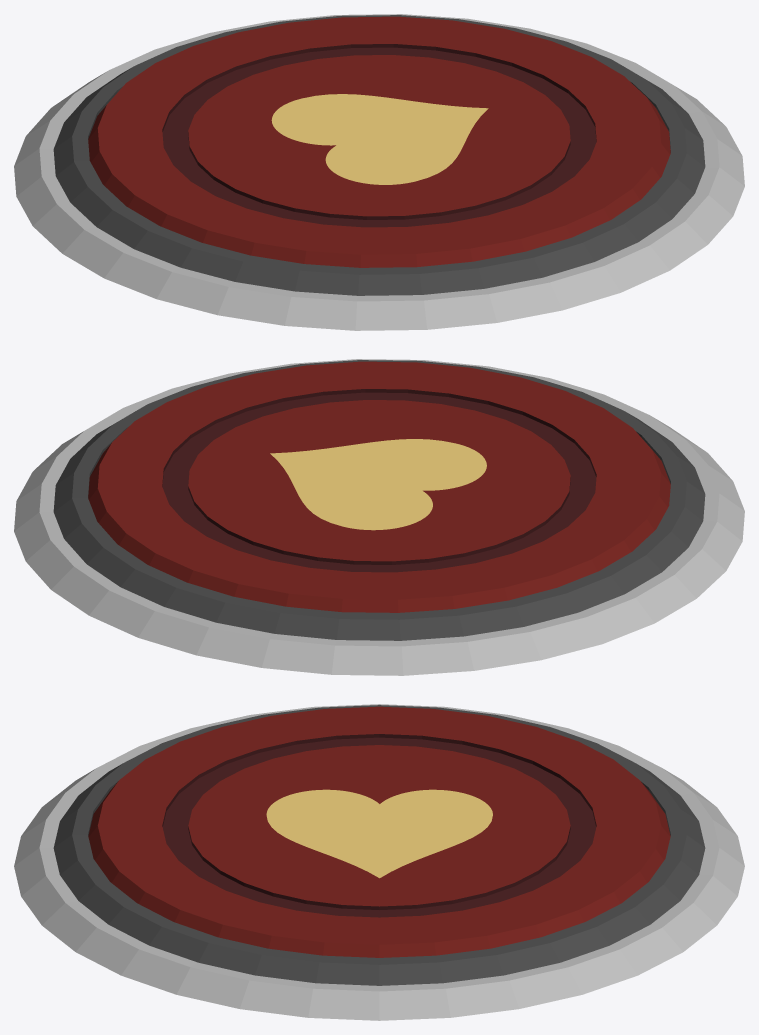
File: RoundPressurePlateHeart.fbx
3 views of the same model, one above another, from view 1: azimuth 30°, elevation 25°; view 2: azimuth 150°, elevation 25°; view 3: azimuth 270°, elevation 25° (orthographic).
Parts seen in each view (by area): view 1: Round_Pressure_Plate_With_Heart_Sign, Round_Pressure_Plate_With_Heart_Sign_Base; view 2: Round_Pressure_Plate_With_Heart_Sign, Round_Pressure_Plate_With_Heart_Sign_Base; view 3: Round_Pressure_Plate_With_Heart_Sign, Round_Pressure_Plate_With_Heart_Sign_Base.
Part boxes in pixels (bbox=[...]): Round_Pressure_Plate_With_Heart_Sign: bbox=[88, 16, 670, 267]; Round_Pressure_Plate_With_Heart_Sign_Base: bbox=[14, 14, 744, 330]; Round_Pressure_Plate_With_Heart_Sign: bbox=[88, 361, 670, 612]; Round_Pressure_Plate_With_Heart_Sign_Base: bbox=[14, 359, 744, 675]; Round_Pressure_Plate_With_Heart_Sign: bbox=[88, 706, 670, 957]; Round_Pressure_Plate_With_Heart_Sign_Base: bbox=[14, 704, 744, 1020].
Size of the model in its own units: 202 by 12.58 by 202.
